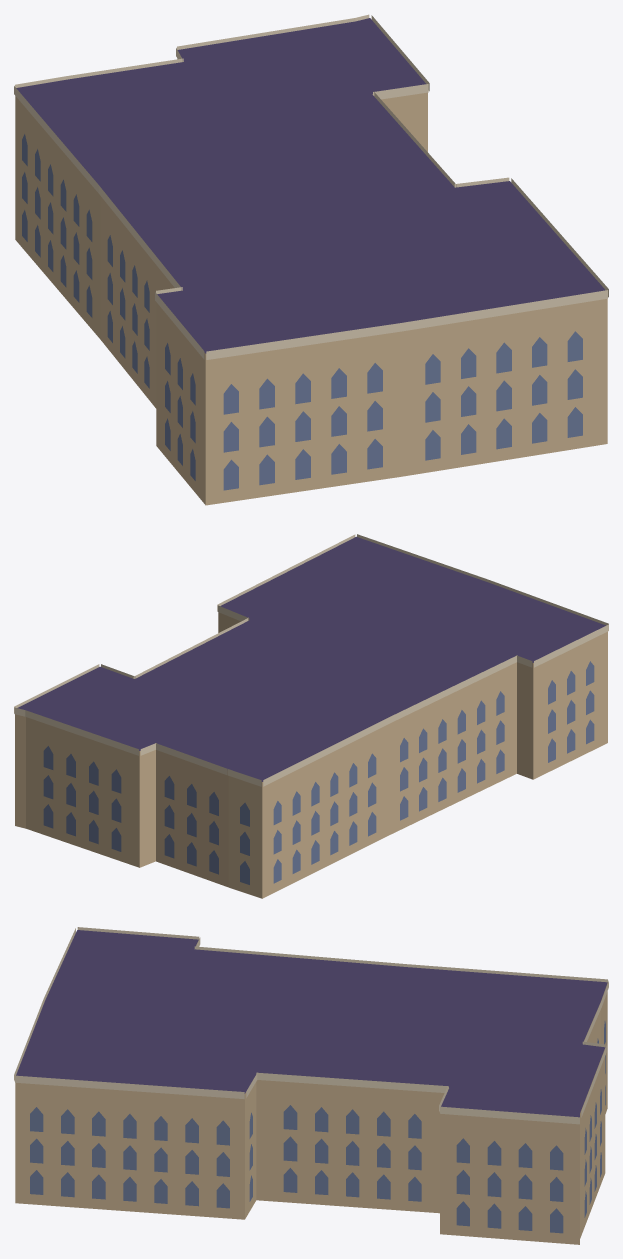
The model's file is core-stevenson-hall-day.glb.
The picture shows the model from 3 angles, top to bottom: view 1: azimuth 30°, elevation 25°; view 2: azimuth 150°, elevation 25°; view 3: azimuth 270°, elevation 25°; orthographic projection. The views are drawn at different scales.
Visible parts, largest first — view 1: campus/core-stevenson-hall-day-0; view 2: campus/core-stevenson-hall-day-0; view 3: campus/core-stevenson-hall-day-0.
Boxes of the visible parts, <box> form: campus/core-stevenson-hall-day-0: <box>14,14,608,505</box>; campus/core-stevenson-hall-day-0: <box>14,534,608,898</box>; campus/core-stevenson-hall-day-0: <box>14,927,608,1244</box>.
Size of the model in its own units: 42.81 by 13.45 by 56.58.
